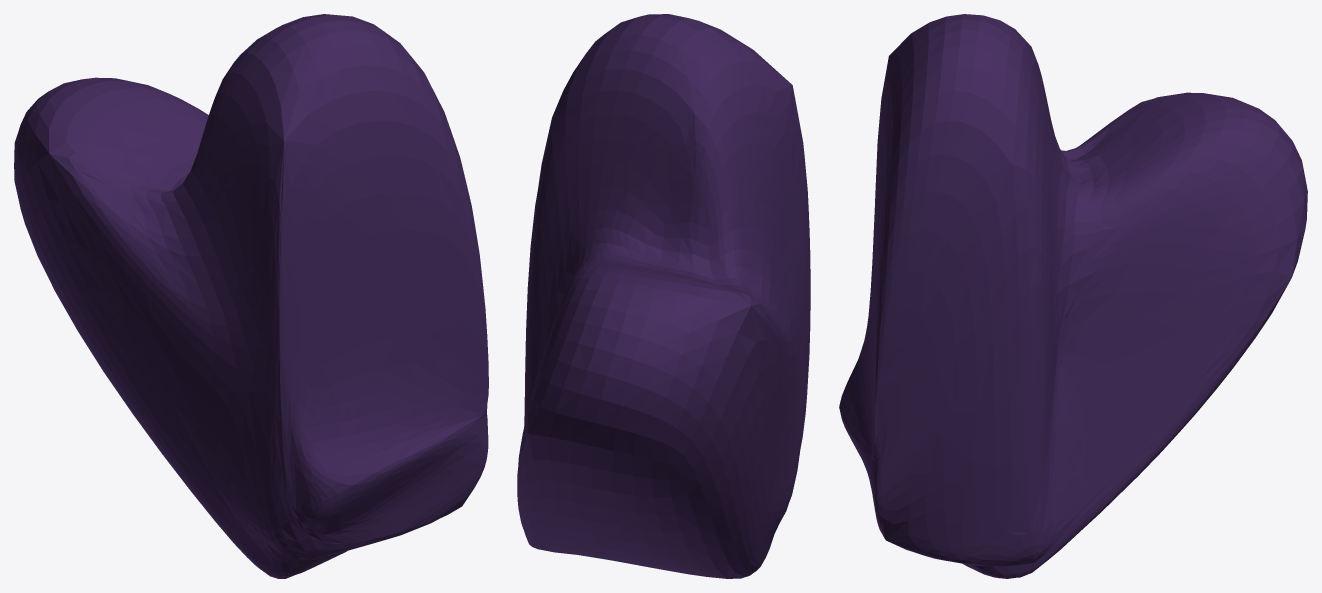
3 renders of one model, left to right at view 1: azimuth 30°, elevation 25°; view 2: azimuth 150°, elevation 25°; view 3: azimuth 270°, elevation 25°, orthographic. The views are drawn at different scales.
Visible parts, largest first — view 1: 591_Cube.2376; view 2: 591_Cube.2376; view 3: 591_Cube.2376.
Boxes of the visible parts, bbox=[...] form: 591_Cube.2376: bbox=[14, 14, 488, 578]; 591_Cube.2376: bbox=[517, 14, 810, 578]; 591_Cube.2376: bbox=[839, 14, 1307, 578].
Size of the model in its own units: 7.2 by 12.3 by 10.04.
